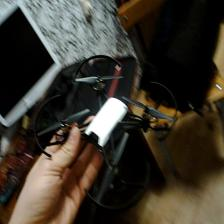drone: (30, 51, 182, 216)
